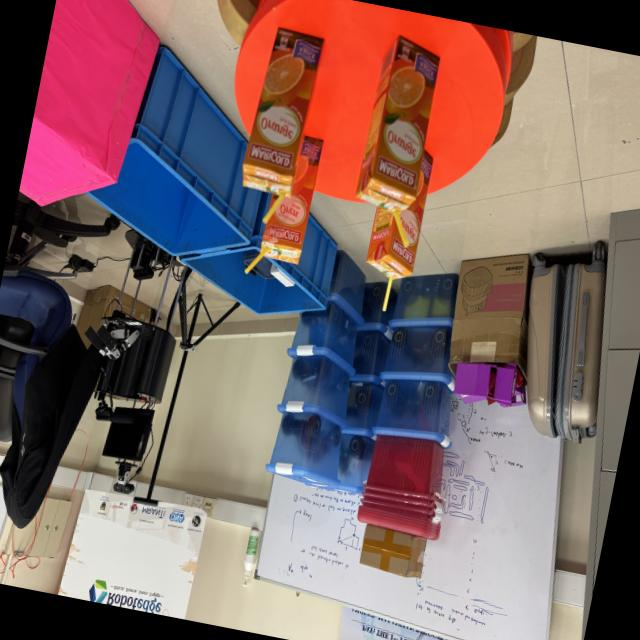drink_carton: (228, 18, 336, 232), (346, 24, 452, 229), (351, 136, 446, 324), (238, 123, 338, 295)
